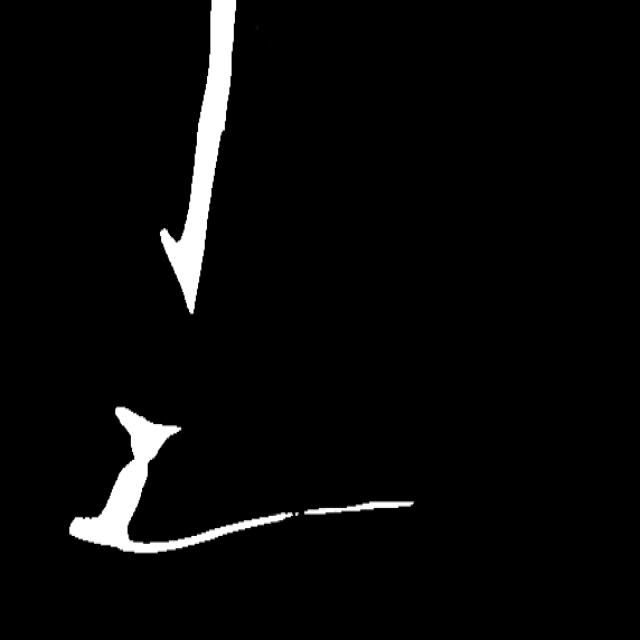inf: (286, 507, 310, 522)
